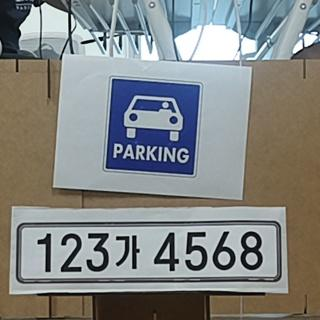normal: (16, 222, 282, 280)
